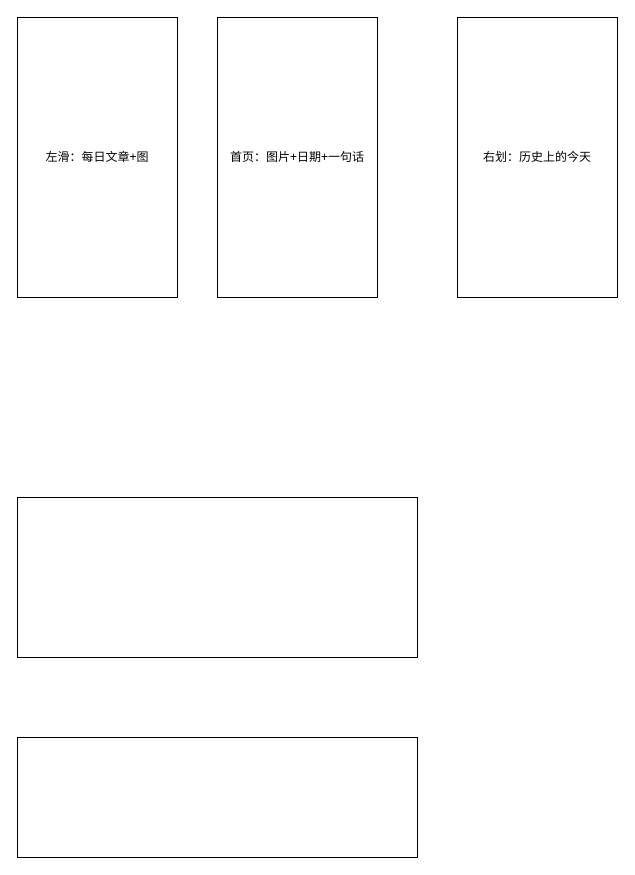
This 635x875 diagram has some shape labels left out. Here are the shapes that lost their labels. From the top down, the box of each, then its label:
(16, 496, 418, 658): 提供接口：one+artical+history+img 定时任务：根据文章生成图片 文章图片关联表 文章表 图片表 one表 history表
(16, 736, 418, 858): phyton:爬取history 爬取文章 爬取图片
